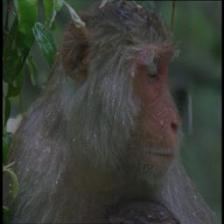monkey: (38, 0, 194, 192)
